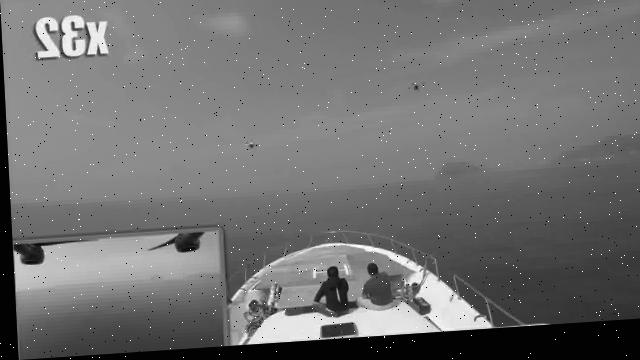drone: (401, 82, 427, 103)
